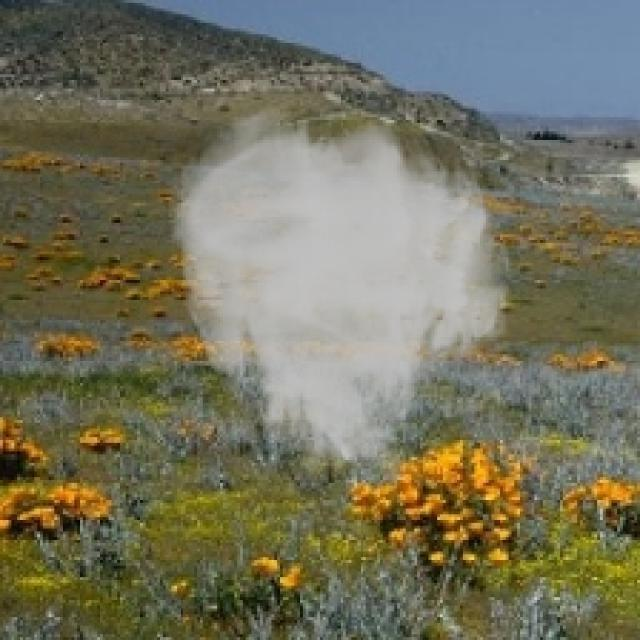Smoke: (166, 102, 514, 488)
